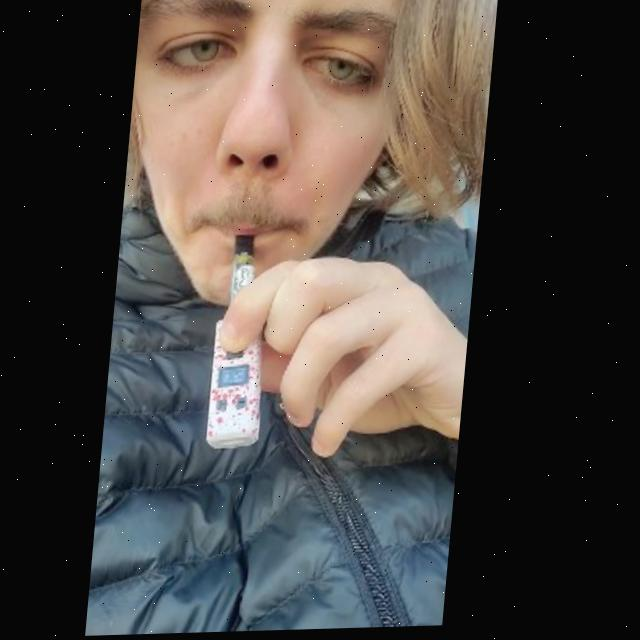vape: (212, 234, 281, 451)
